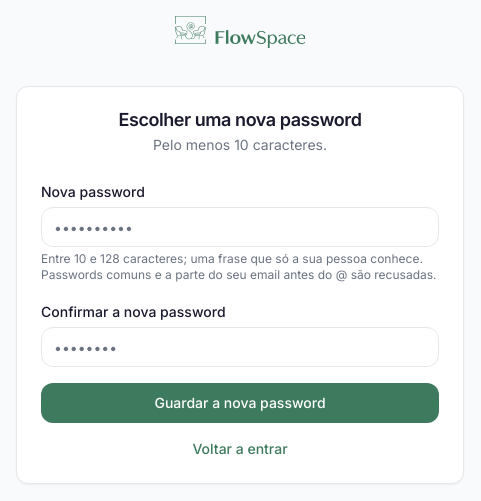
Test: Reset password page › an invalid or expired link says so and offers a new request
In the password field labelled "Nova password": (240, 227) [41,207,439,247], type "novapass123"
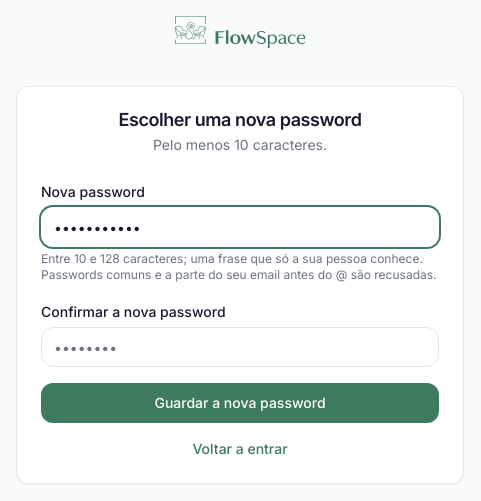
In the password field labelled "Confirmar a nova password": (240, 347) [41,327,439,367], type "novapass123"
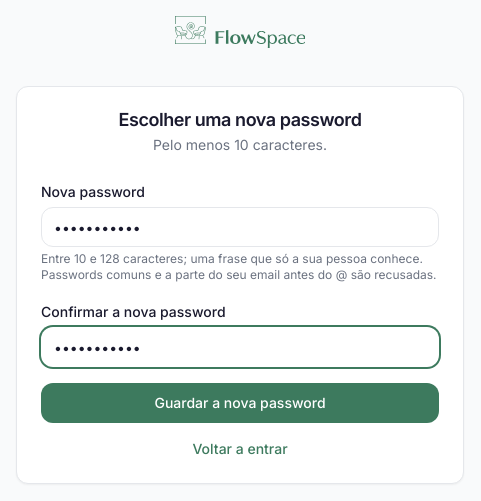
Click the button "Guardar a nova password": click(240, 403) [41,383,439,423]
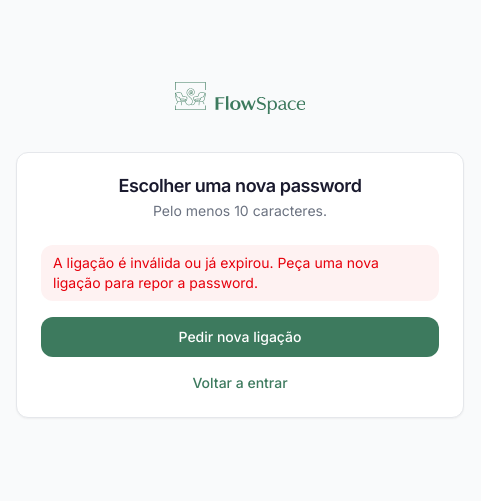
Expected: the message shows "A ligação é inválida ou já expirou", [53,254,379,291]
